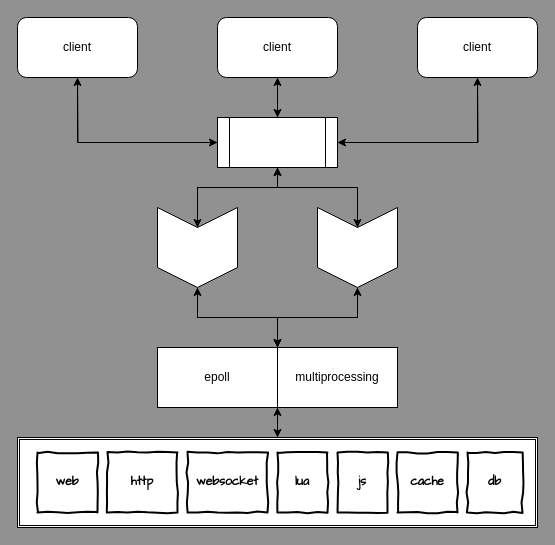
This 555x545 diagram has some shape labels left out. Here are the shapes that lost their labels. From the top down, the centre of each, then its label:
At point (277, 142): "openssl".
At point (197, 247): "udp".
At point (357, 247): "tcp".
